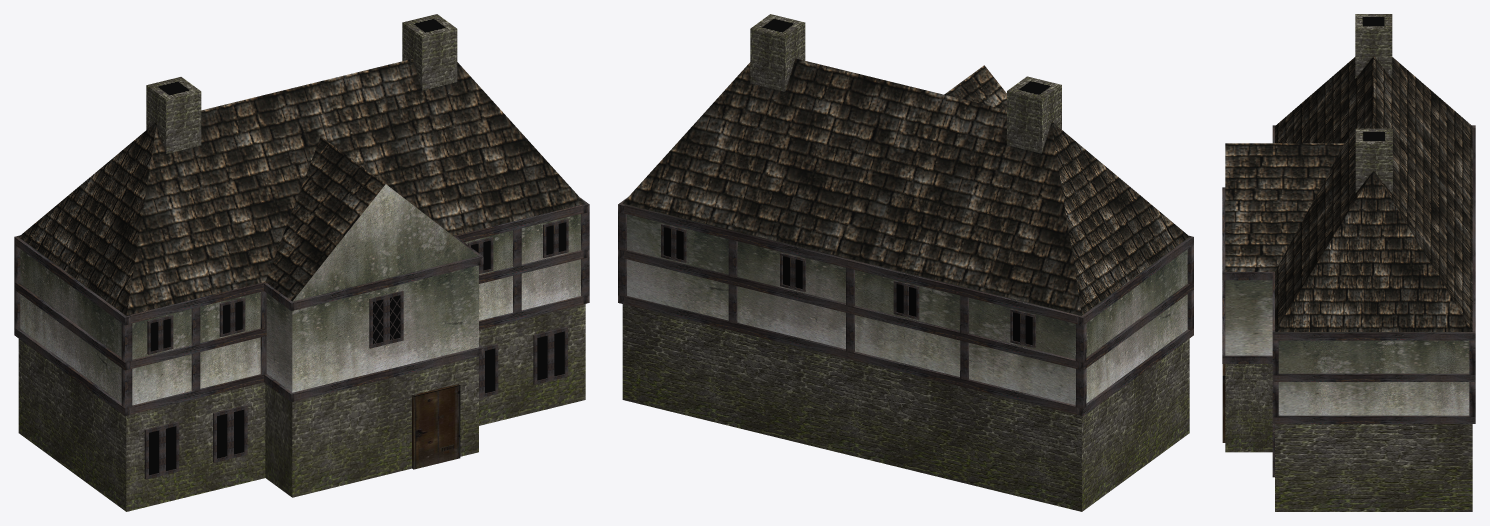
File: house.fbx
The picture shows the model from 3 angles, left to right: view 1: azimuth 30°, elevation 25°; view 2: azimuth 150°, elevation 25°; view 3: azimuth 270°, elevation 25°; orthographic projection. The views are drawn at different scales.
Visible parts, largest first — view 1: Box03; view 2: Box03; view 3: Box03.
Part boxes in pixels (<box>): Box03: <box>14,14,589,511</box>; Box03: <box>618,14,1193,511</box>; Box03: <box>1222,14,1475,511</box>.
Size of the model in its own units: 6.38 by 4.71 by 3.28.
Materials: 1 (1 with a texture image).
